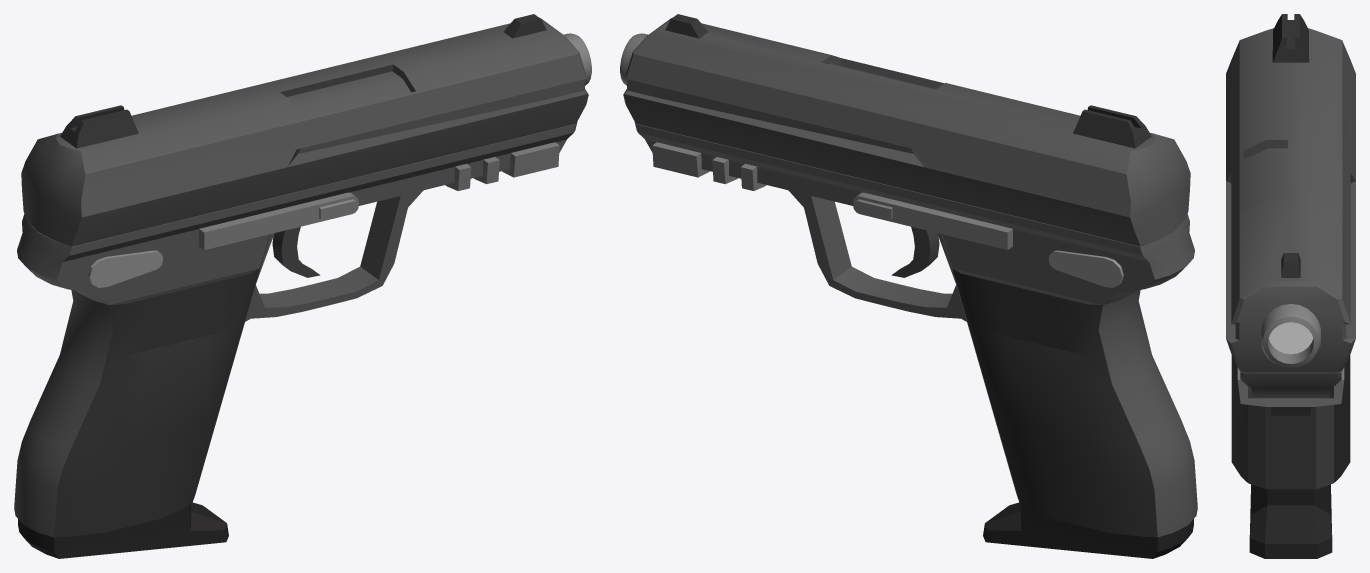
3 views of the same model, side by side, from view 1: azimuth 30°, elevation 25°; view 2: azimuth 150°, elevation 25°; view 3: azimuth 270°, elevation 25° (orthographic). The views are drawn at different scales.
Visible parts, largest first — view 1: HK_45; view 2: HK_45; view 3: HK_45.
Part boxes in pixels (x1,y1,x2,y2): HK_45: (14, 14, 591, 558); HK_45: (620, 14, 1197, 558); HK_45: (1226, 14, 1355, 558).
Bounding box in the file's own units: 0.313 × 0.237 × 0.059.
